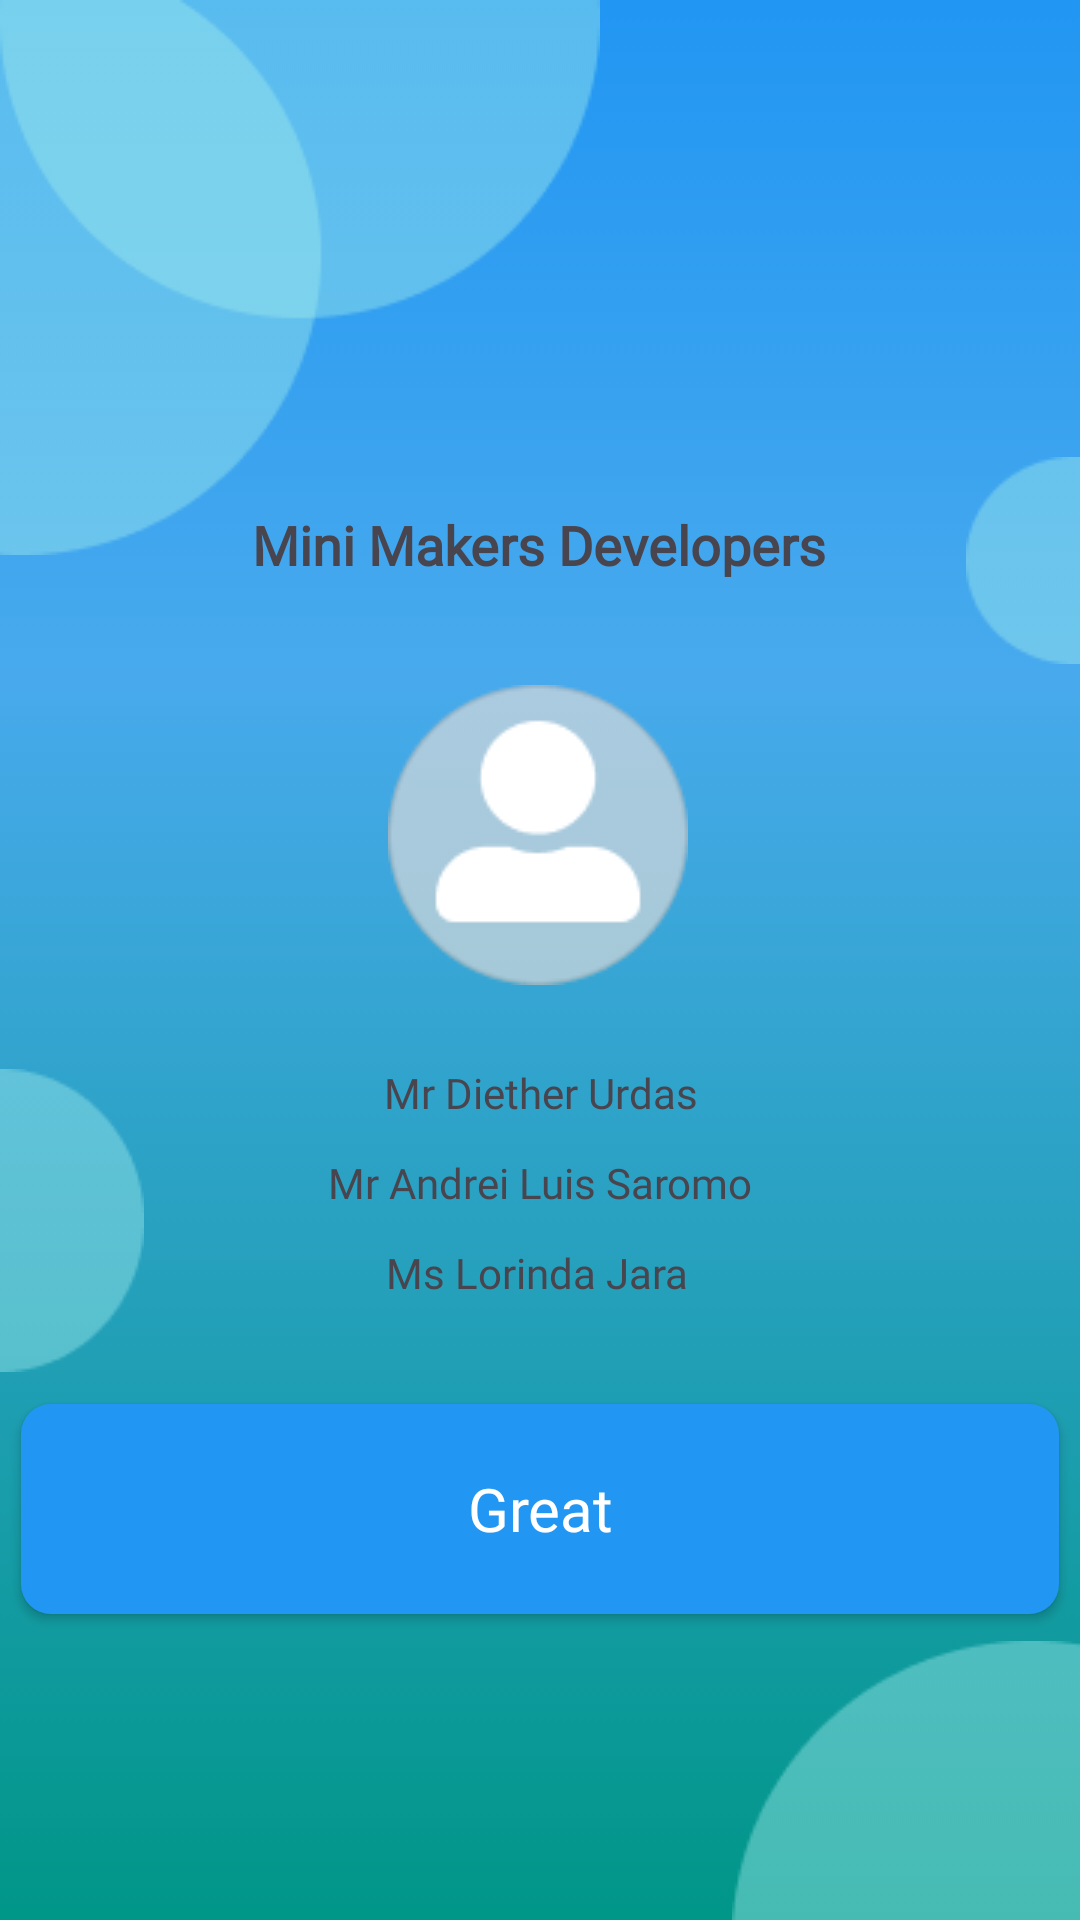

Screen size 1080px x 1920px. Icon name, then its box in pixels as (left=x1, top=y1, right=x2, bottom=y2):
dev profile: (left=388, top=685, right=688, bottom=985)
